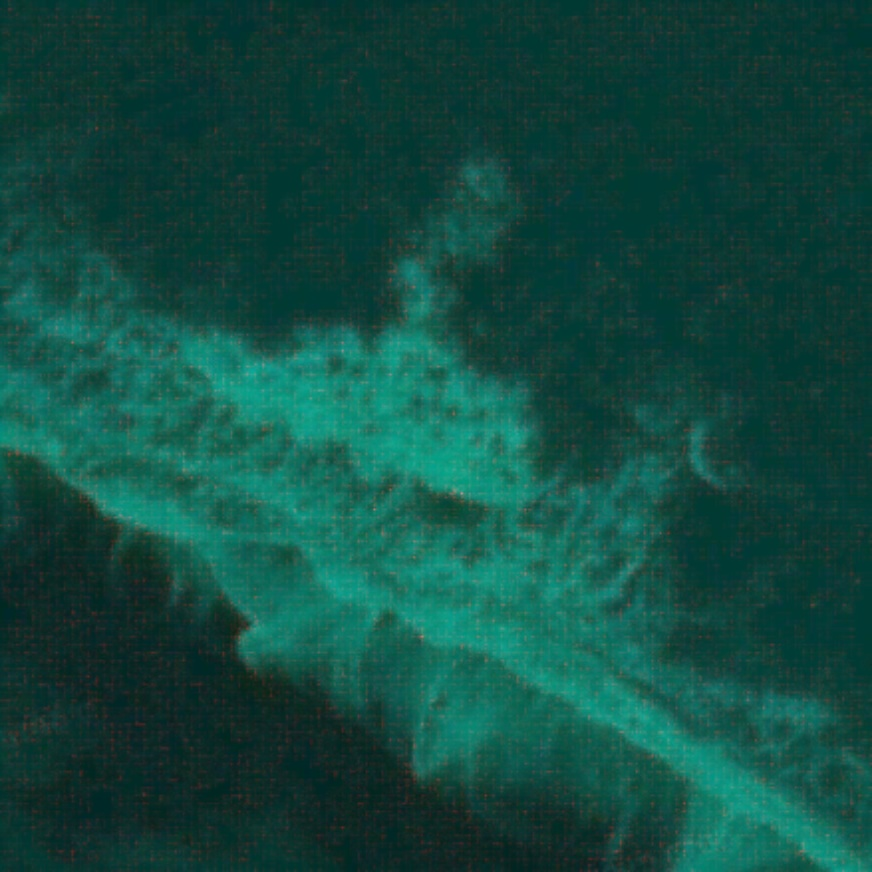rip_current: (516, 310, 761, 673)
